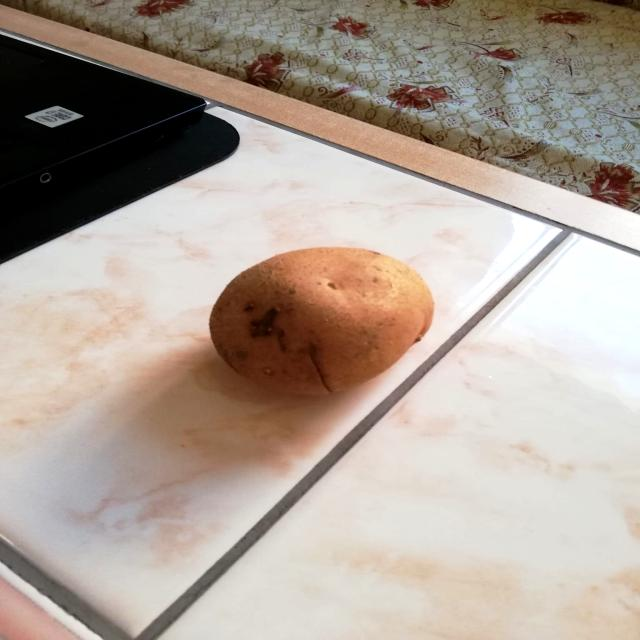potato: (207, 236, 437, 402)
